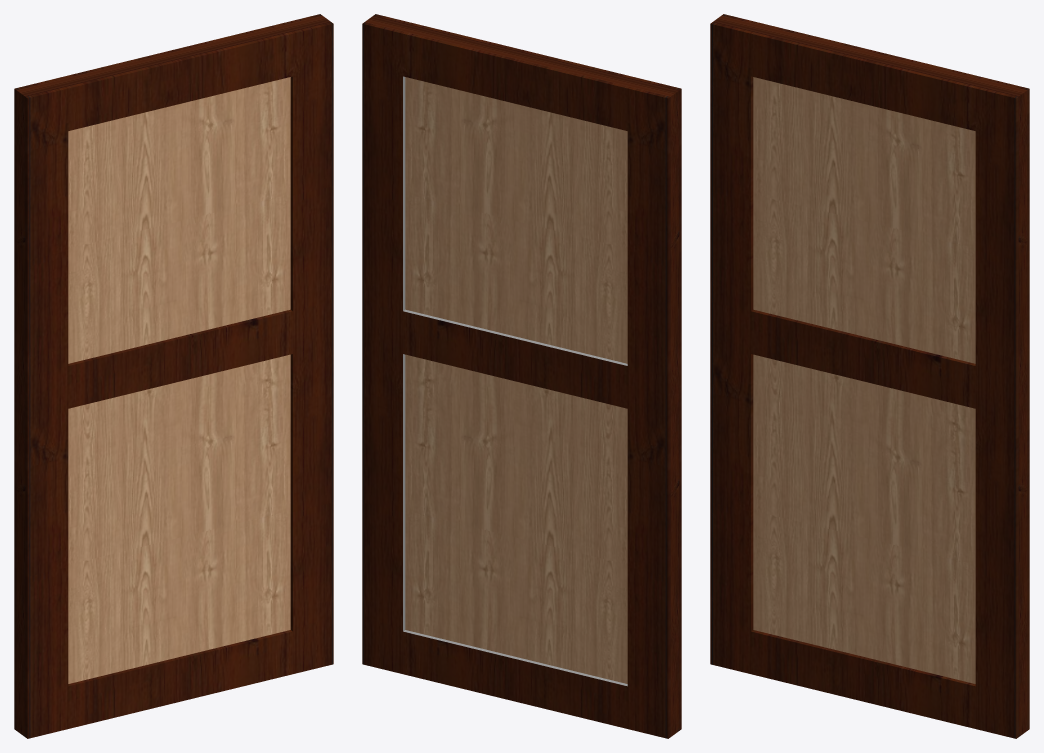
File: Door.fbx
3 views of the same model, side by side, from view 1: azimuth 30°, elevation 25°; view 2: azimuth 150°, elevation 25°; view 3: azimuth 330°, elevation 25° (orthographic).
Parts seen in each view (by area): view 1: pCube1; view 2: pCube1; view 3: pCube1.
Part boxes in pixels (left/top/right/bottom): pCube1: left=14, top=14, right=333, bottom=738; pCube1: left=362, top=14, right=681, bottom=738; pCube1: left=710, top=14, right=1029, bottom=738.
Size of the model in its own units: 1.5 by 3 by 0.1132.
Materials: 3 (2 with a texture image).
